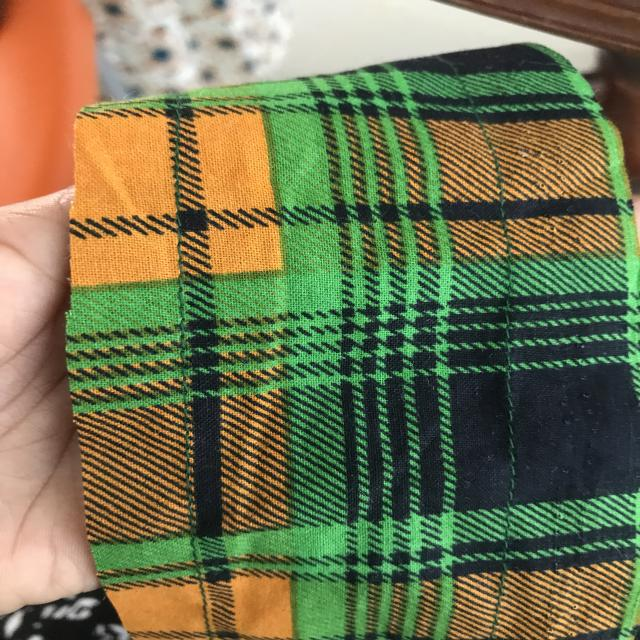good: (481, 383, 539, 493)
